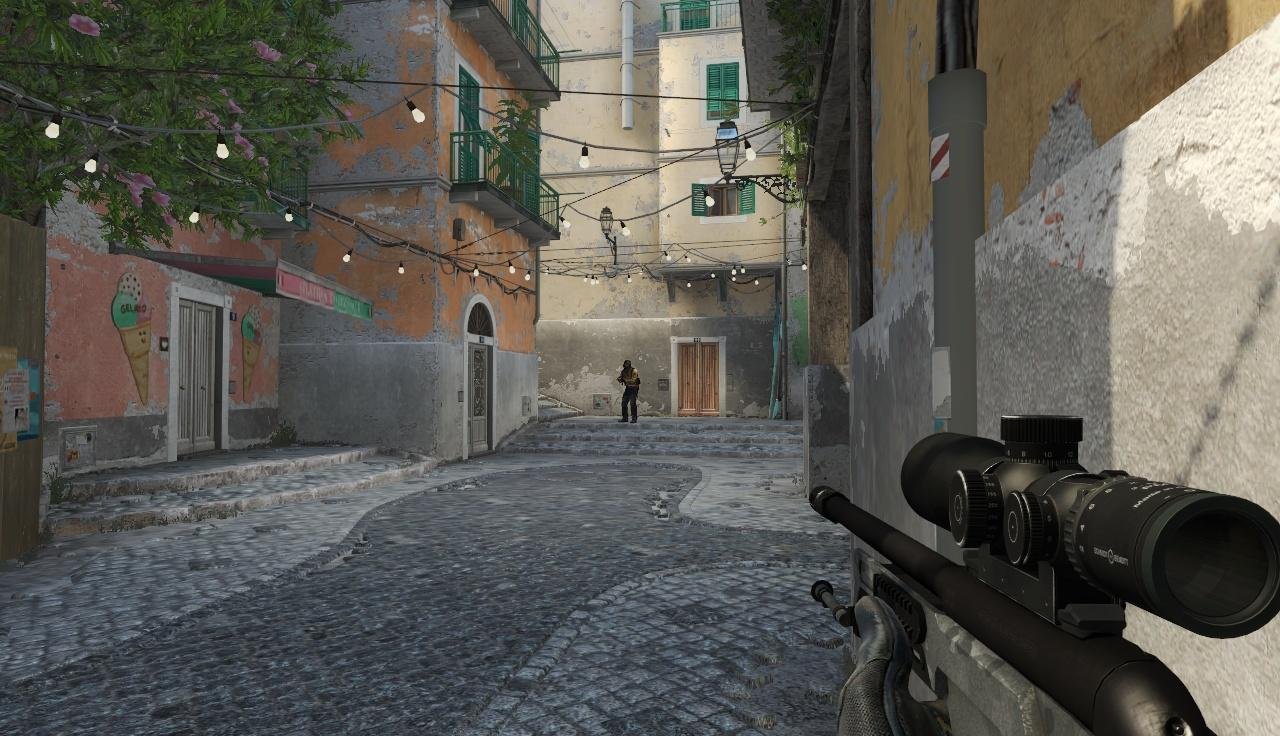sniper: (814, 425, 1280, 732)
tt: (620, 363, 642, 425)
tthead: (623, 362, 633, 372)
